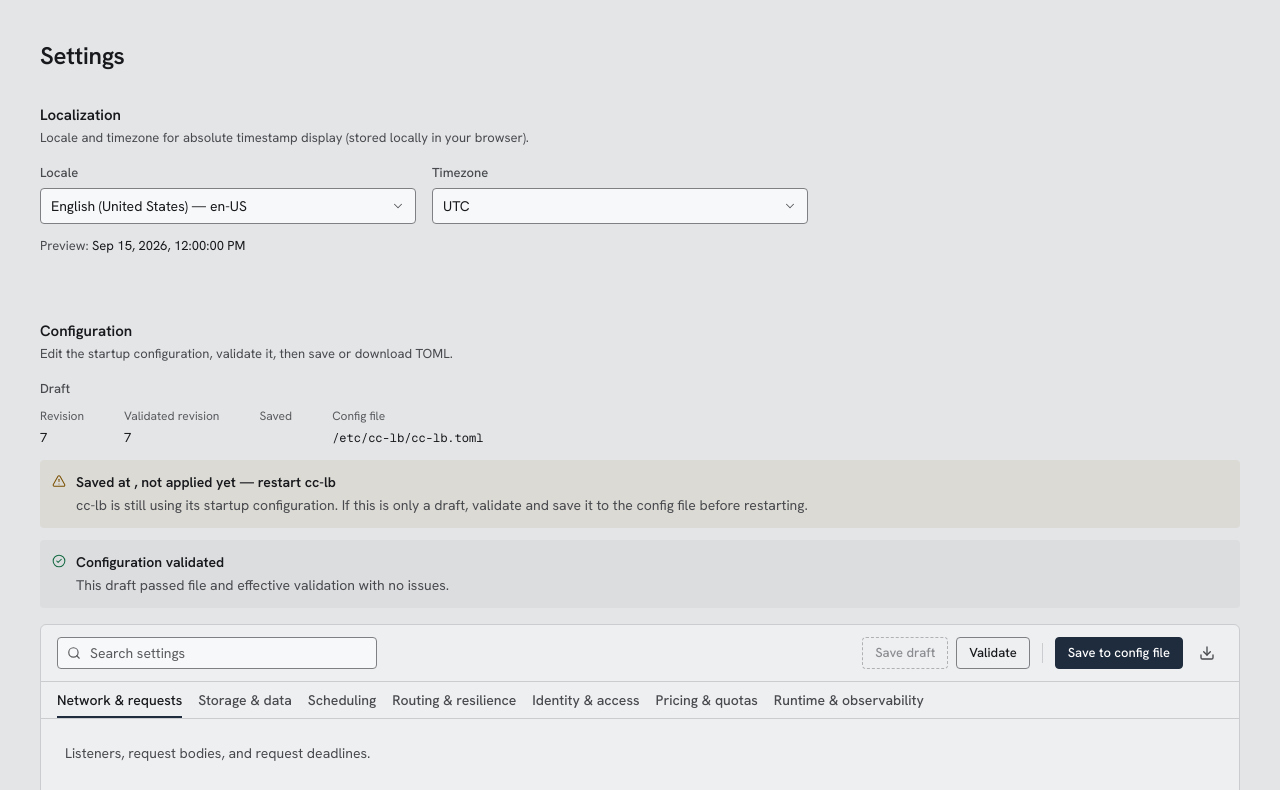
Test: database pool renders each field once with advanced controls behind the disclosure
What coordinates should you click on to do the following:
click the button "Storage & data"
I would click on:
 (245, 700)
Its box is top-left (198, 682), bottom-right (292, 718).
(page scrolled)
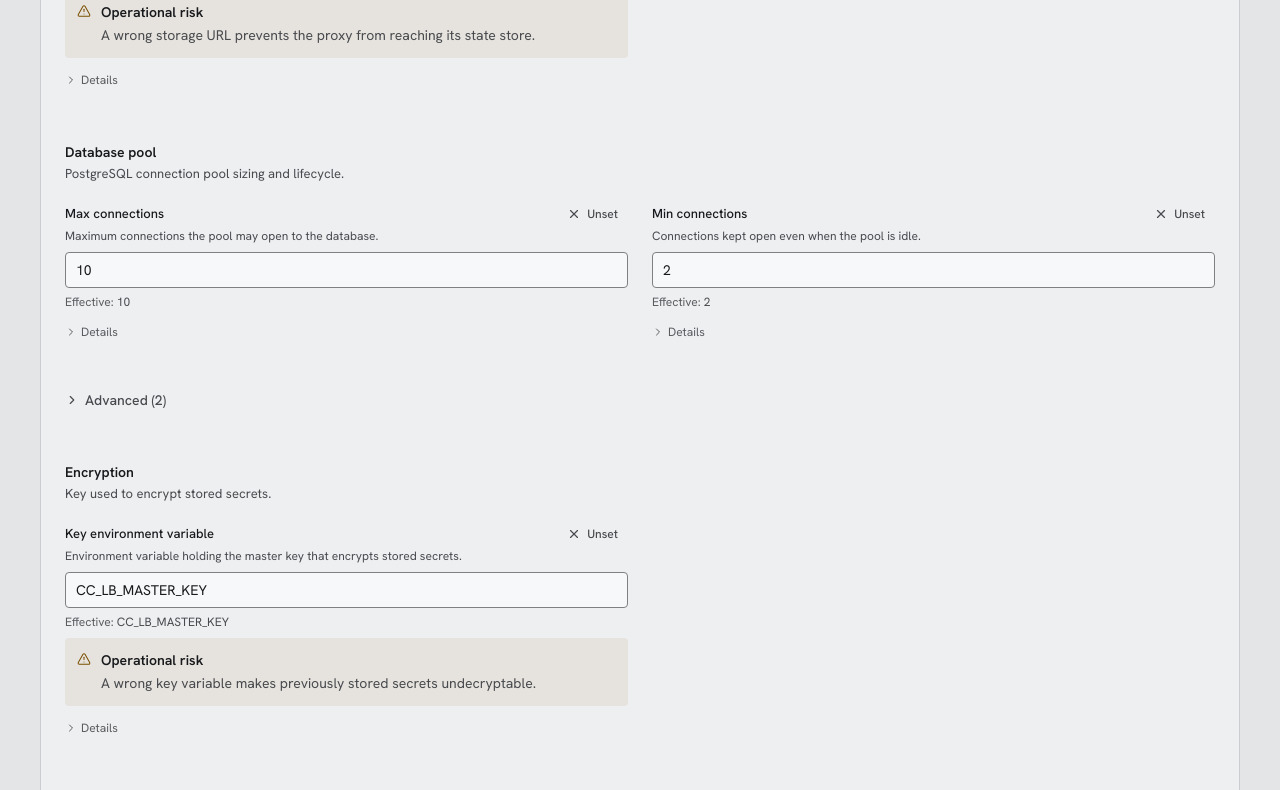
Now the element that starts with "Database pool" is shown, box top-left (65, 142), bottom-right (1215, 422)
Now the element with test id "config-advanced" is shown, box top-left (65, 390), bottom-right (166, 408)
